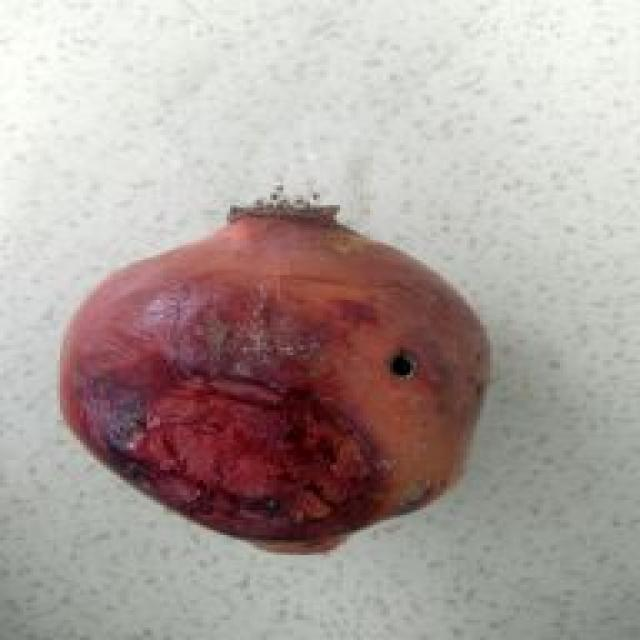Rotten: (58, 199, 495, 554)
